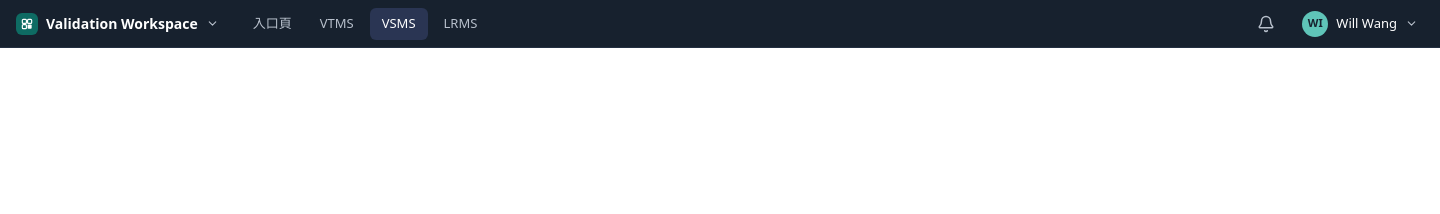
it: Topbar：使用者選單 › admin：標頭顯示名稱與「部級主管」
The width and height of the screenshot is (1440, 214).
Click the button with aria-label "使用者選單" at (1361,24), box [1298, 8, 1424, 40]
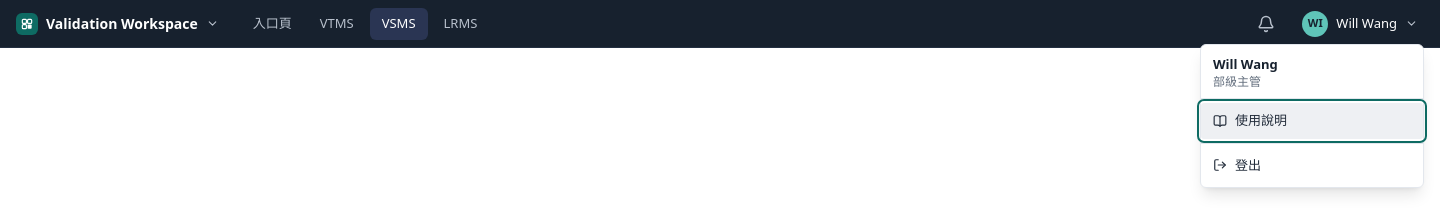
Result: the 2nd text "Will Wang" is shown at [1213, 54, 1278, 72]
Result: the text "部級主管" is shown at [1213, 73, 1261, 90]
